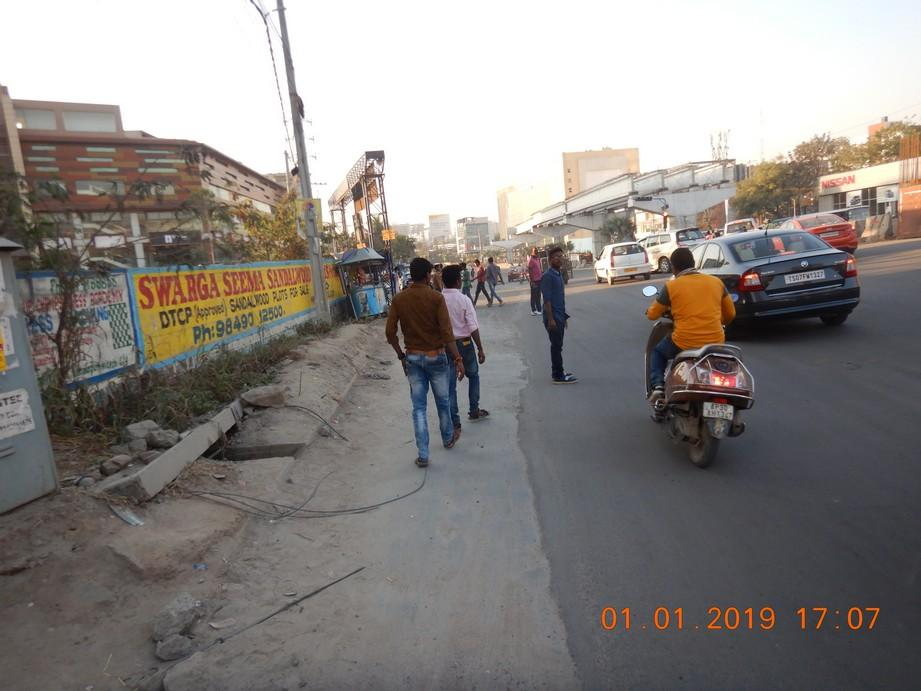plate: (702, 400, 735, 424)
